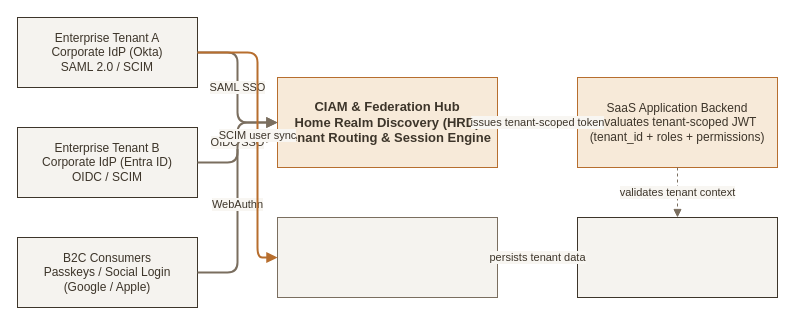
Some shapes in this 795 by 325 pixel diagram are drawn without their labels. The shapes that lost their labels are listed below. From the top down, each one's box as (x1, y1, x2, y2) in pixels, then its label:
(276, 216, 498, 298): Inbound SCIM Receiver automated provisioning per tenant (JML sync)
(576, 216, 778, 298): Partitioned Tenant Store isolated user catalogs & custom tenant roles
